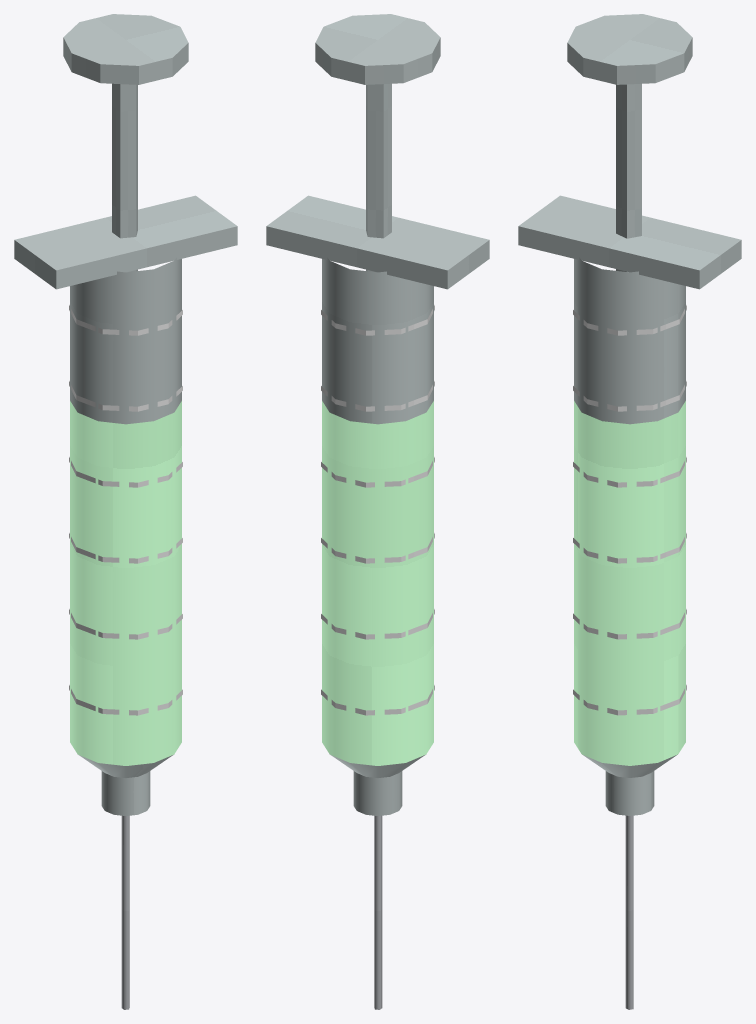
Rendered from item_syringe.glb.
3 renders of one model, left to right at view 1: azimuth 30°, elevation 25°; view 2: azimuth 150°, elevation 25°; view 3: azimuth 330°, elevation 25°, orthographic.
Visible parts, largest first — view 1: syringe; view 2: syringe; view 3: syringe.
Boxes of the visible parts, x1,y1,x2,y2 form: syringe: [14, 14, 237, 1009]; syringe: [266, 14, 489, 1009]; syringe: [518, 14, 741, 1009].
Bounding box in the file's own units: 0.03 × 0.153 × 0.0171.
Materials: 5 (5 with a texture image).
